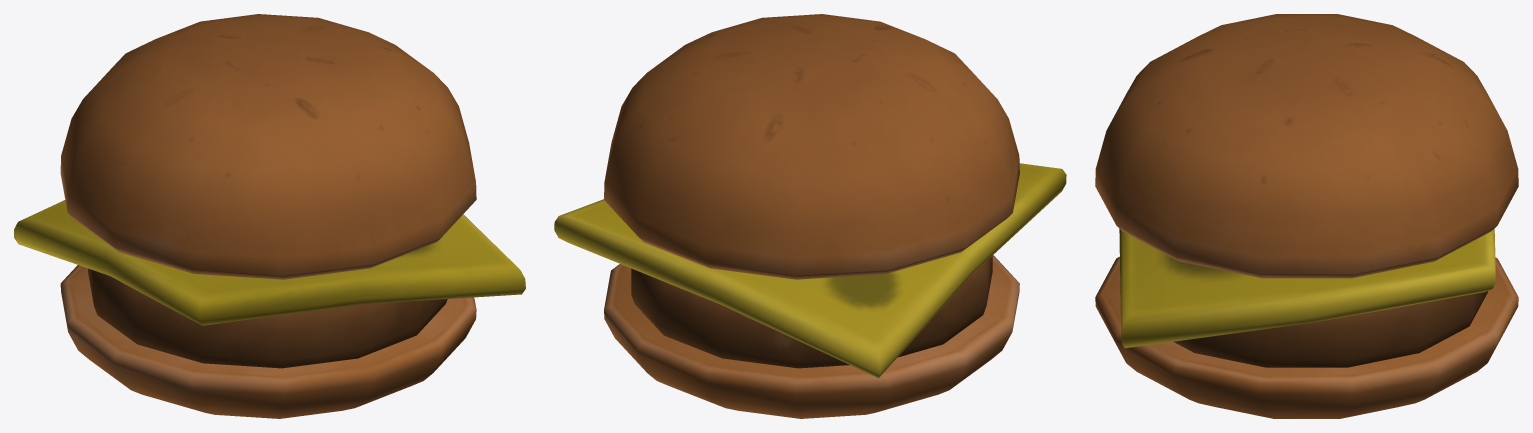
Rendered from MSH_Hamburguesa_P_C_Q_J.fbx.
3 renders of one model, left to right at view 1: azimuth 30°, elevation 25°; view 2: azimuth 150°, elevation 25°; view 3: azimuth 270°, elevation 25°, orthographic.
Visible parts, largest first — view 1: MSH_Hamburguesa_P_C_Q_J; view 2: MSH_Hamburguesa_P_C_Q_J; view 3: MSH_Hamburguesa_P_C_Q_J.
Boxes of the visible parts, x1,y1,x2,y2 form: MSH_Hamburguesa_P_C_Q_J: (14,14,525,418); MSH_Hamburguesa_P_C_Q_J: (554,14,1066,418); MSH_Hamburguesa_P_C_Q_J: (1095,14,1518,418).
Size of the model in its own units: 14.42 by 14.79 by 12.06.
Materials: 1 (1 with a texture image).
